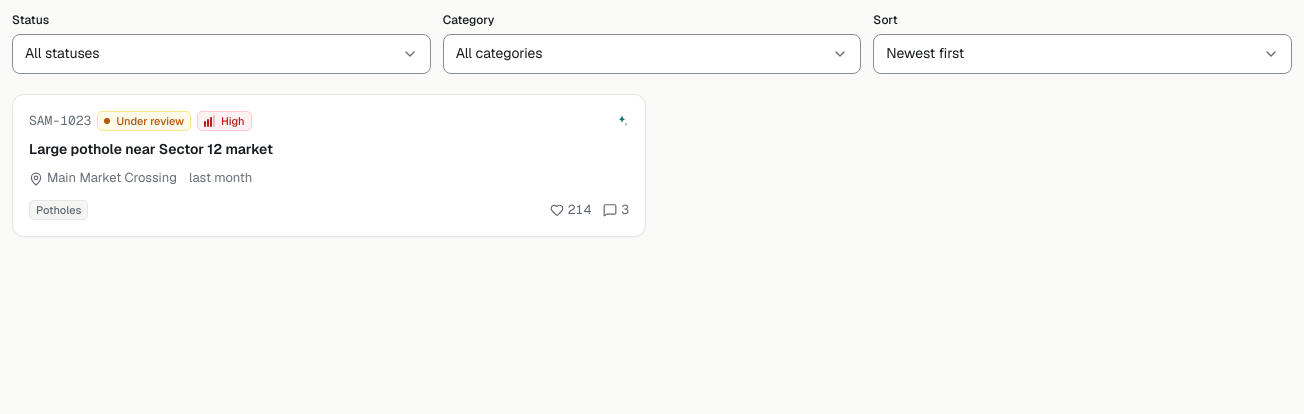
MyProblemsList › recovers from a failed reload
The width and height of the screenshot is (1304, 414).
What coordinates should you click on to do the following:
click the dropdown labelled "All statuses"
I would click on:
 (62, 53)
Its box is top-left (12, 34), bottom-right (431, 74).
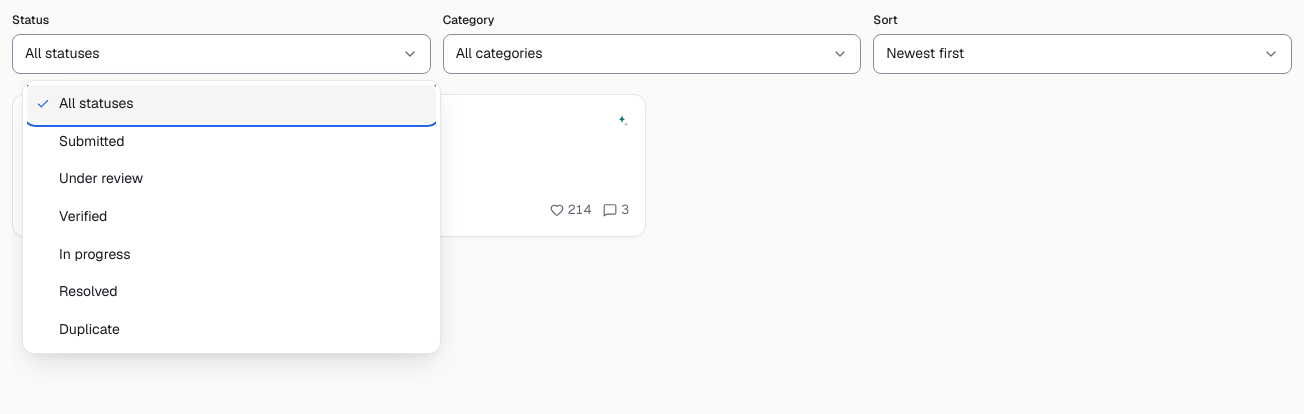
What coordinates should you click on to do the following:
click the option "Resolved"
I would click on:
 (88, 291)
Its box is top-left (59, 282), bottom-right (118, 300).
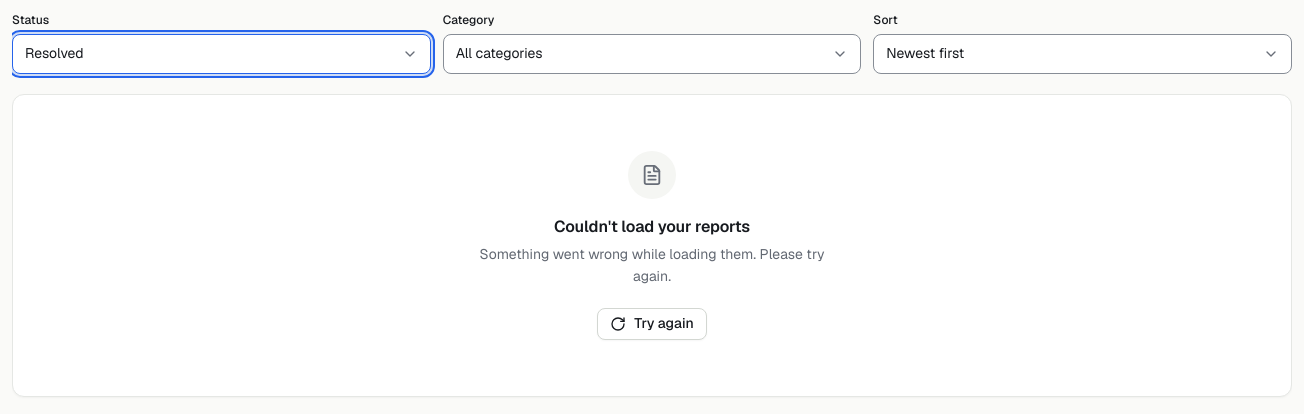
Expected: the heading "Couldn't load your reports" is shown, top-left (554, 215), bottom-right (750, 238)
What coordinates should you click on to do the following:
click the button "Try again"
I would click on:
 (652, 324)
Its box is top-left (597, 308), bottom-right (707, 340).
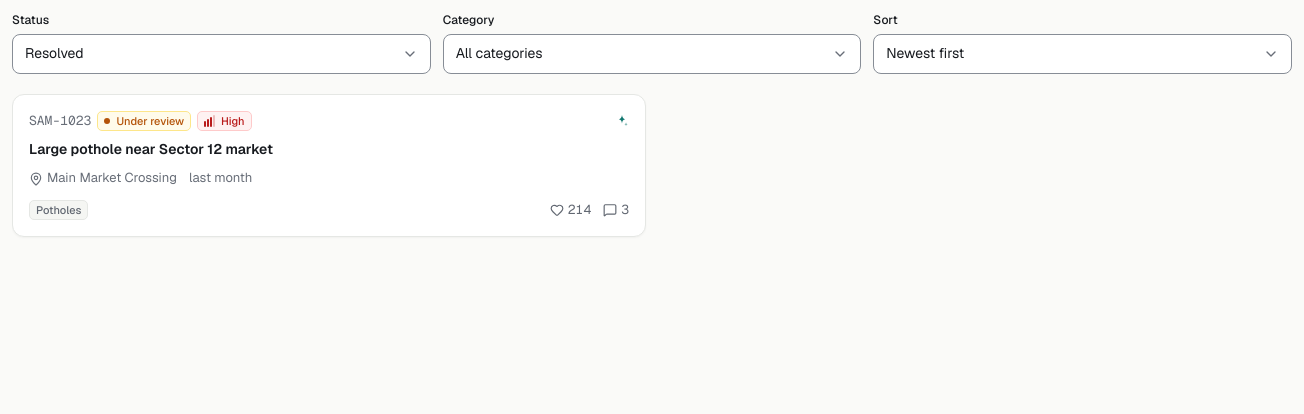
Expected: the text "SAM-1023" is shown, top-left (29, 112), bottom-right (91, 131)
